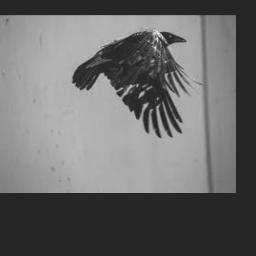Crow: (71, 30, 204, 138)
